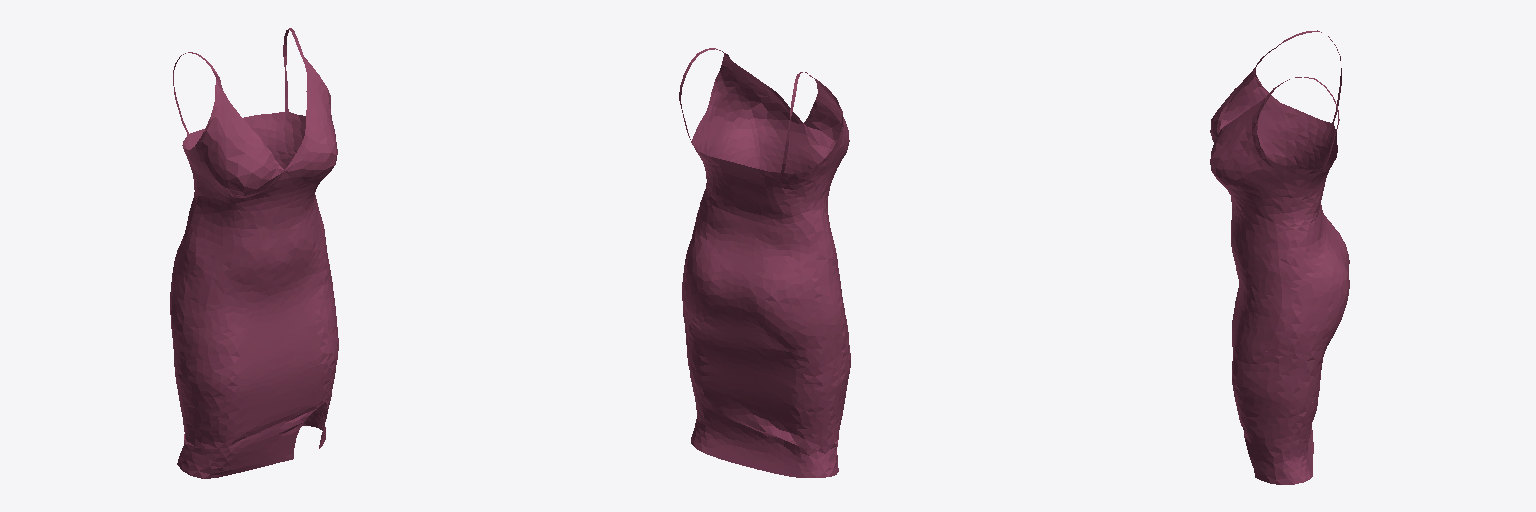
The picture shows the model from 3 angles: view 1: azimuth 30°, elevation 25°; view 2: azimuth 150°, elevation 25°; view 3: azimuth 270°, elevation 25°; orthographic projection.
Visible parts, largest first — view 1: medium_roseDress:polySurface1; view 2: medium_roseDress:polySurface1; view 3: medium_roseDress:polySurface1.
Boxes of the visible parts, x1=… form: medium_roseDress:polySurface1: x1=170, y1=28, x2=338, y2=478; medium_roseDress:polySurface1: x1=679, y1=48, x2=850, y2=477; medium_roseDress:polySurface1: x1=1210, y1=30, x2=1349, y2=484.
Size of the model in its own units: 3.7 by 9.38 by 2.92.
9 materials, 1 textured.